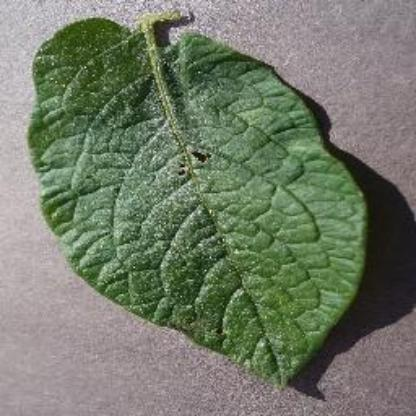Healthy-plant: (26, 11, 370, 389)
